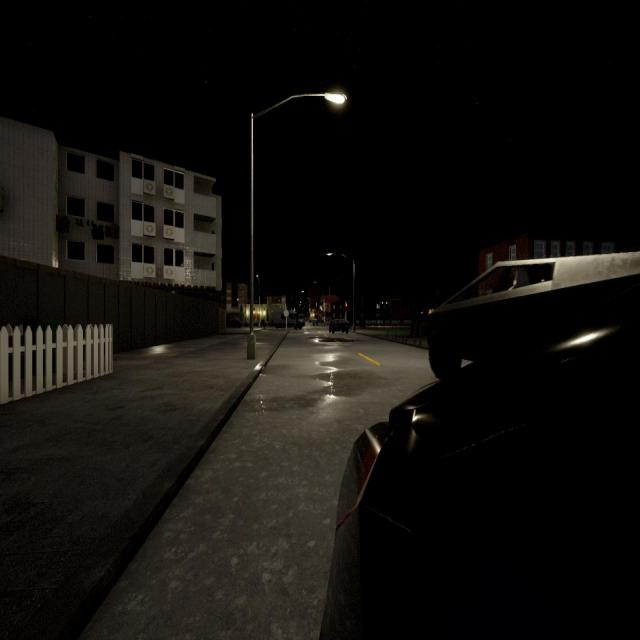Traffic_Signs: (283, 310, 289, 317)
Vehicle: (320, 322, 640, 638), (424, 250, 640, 380), (269, 310, 305, 330), (329, 318, 349, 334), (313, 319, 318, 326)
traffic_light: (344, 303, 348, 311)
